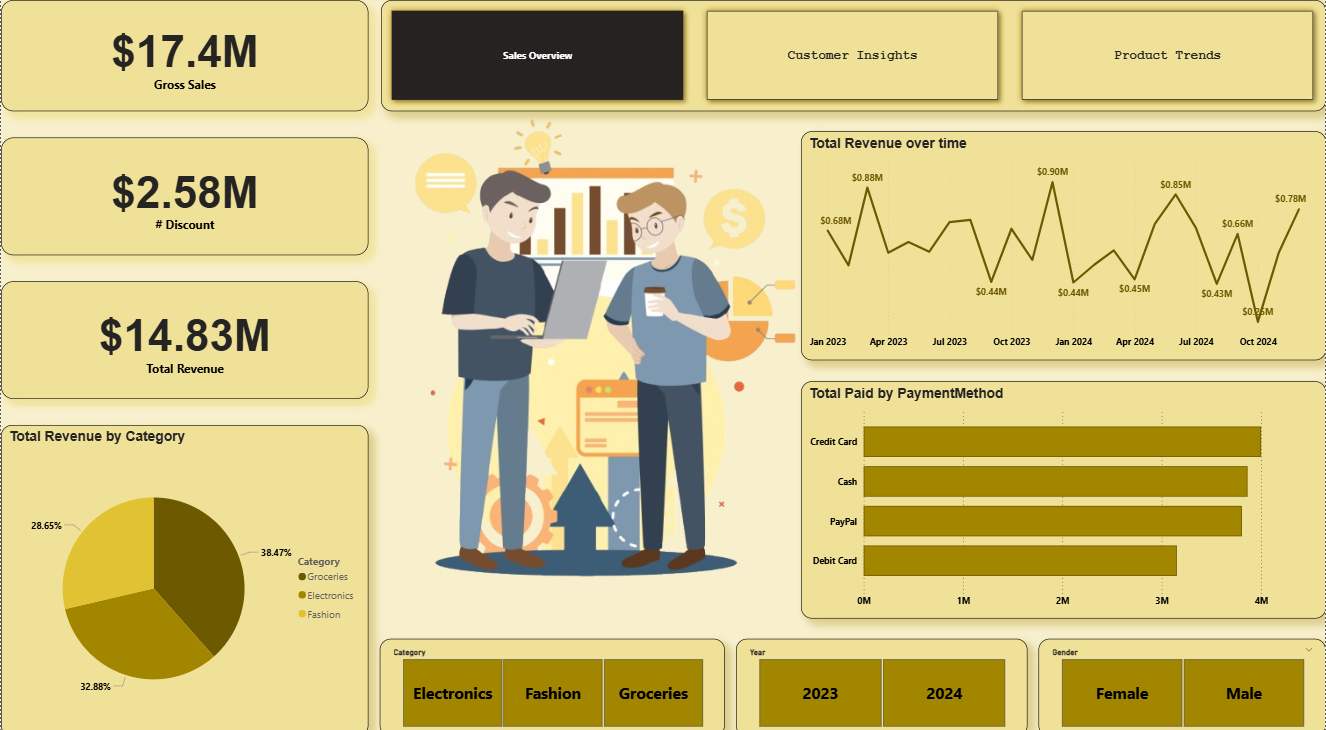

What the dashboard file says about the page in this screenshot:
{"tool":"powerbi","page":{"name":"Sales Overview","canvas":[1800,1000],"ordinal":0},"visuals":[{"type":"pageNavigator","box":[516.3,0,1284,151.2],"z":0},{"type":"card","fields":{"Values":["Core Sales Measures.Total Revenue"]},"box":[0,382.1,499.3,159.6],"z":1000},{"type":"card","fields":{"Values":["Core Sales Measures.Total Discount"]},"box":[0,186.8,499.3,159.6],"z":2000},{"type":"card","fields":{"Values":["Core Sales Measures.Gross Sales"]},"box":[0,0,499.3,151.2],"z":3000},{"type":"lineChart","title":"Total Revenue over time","fields":{"Y":["Core Sales Measures.Total Revenue"],"Category":["Sales.Sales Date.Variation.Date Hierarchy.Year","Sales.Sales Date.Variation.Date Hierarchy.Quarter","Sales.Sales Date.Variation.Date Hierarchy.Month","Sales.Sales Date.Variation.Date Hierarchy.Day"]},"box":[1087,178.9,713.3,310.8],"z":4000},{"type":"pieChart","fields":{"Y":["Core Sales Measures.Total Revenue"],"Category":["Products.Category"]},"box":[0,577.4,499.3,422.9],"z":5000},{"type":"clusteredBarChart","fields":{"Category":["Payments.PaymentMethod"],"Y":["Payments Measures.Total Paid"]},"box":[1087,517.4,713.3,322.7],"z":6000},{"type":"slicer","fields":{"Values":["Products.Category"]},"box":[514.5,867.9,468.8,132.5],"z":7000},{"type":"slicer","fields":{"Values":["Customers.Gender"]},"box":[1409.4,867.5,390.6,132.5],"z":8000},{"type":"image","box":[519.7,141,601.2,662.4],"z":9000},{"type":"slicer","fields":{"Values":["Sales.Sales Date.Variation.Date Hierarchy.Year"]},"box":[998.5,867.9,395.7,132.5],"z":10000}]}

Visuals, with their boxes in screenshot pixels (x1, y1, x2, y2), scaled from the page's 1800x1000 canvas onto the 1326x730 screenshot:
pageNavigator: {"left": 380, "top": 0, "right": 1325, "bottom": 110}
card - Core Sales Measures.Total Revenue: {"left": 0, "top": 279, "right": 368, "bottom": 395}
card - Core Sales Measures.Total Discount: {"left": 0, "top": 136, "right": 368, "bottom": 253}
card - Core Sales Measures.Gross Sales: {"left": 0, "top": 0, "right": 368, "bottom": 110}
"Total Revenue over time" lineChart: {"left": 801, "top": 131, "right": 1325, "bottom": 357}
pieChart - Core Sales Measures.Total Revenue x Products.Category: {"left": 0, "top": 422, "right": 368, "bottom": 729}
clusteredBarChart - Payments.PaymentMethod x Payments Measures.Total Paid: {"left": 801, "top": 378, "right": 1325, "bottom": 613}
slicer - Products.Category: {"left": 379, "top": 634, "right": 724, "bottom": 729}
slicer - Customers.Gender: {"left": 1038, "top": 633, "right": 1325, "bottom": 729}
image: {"left": 383, "top": 103, "right": 826, "bottom": 586}
slicer - Sales.Sales Date.Variation.Date Hierarchy.Year: {"left": 736, "top": 634, "right": 1027, "bottom": 729}
